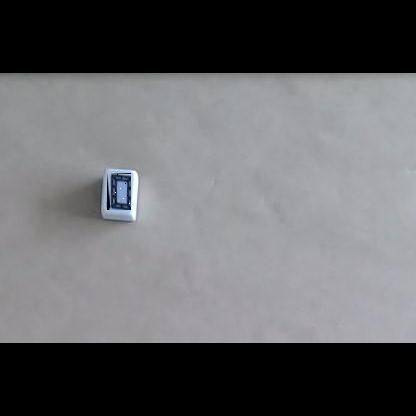5z: (107, 173, 131, 210)
